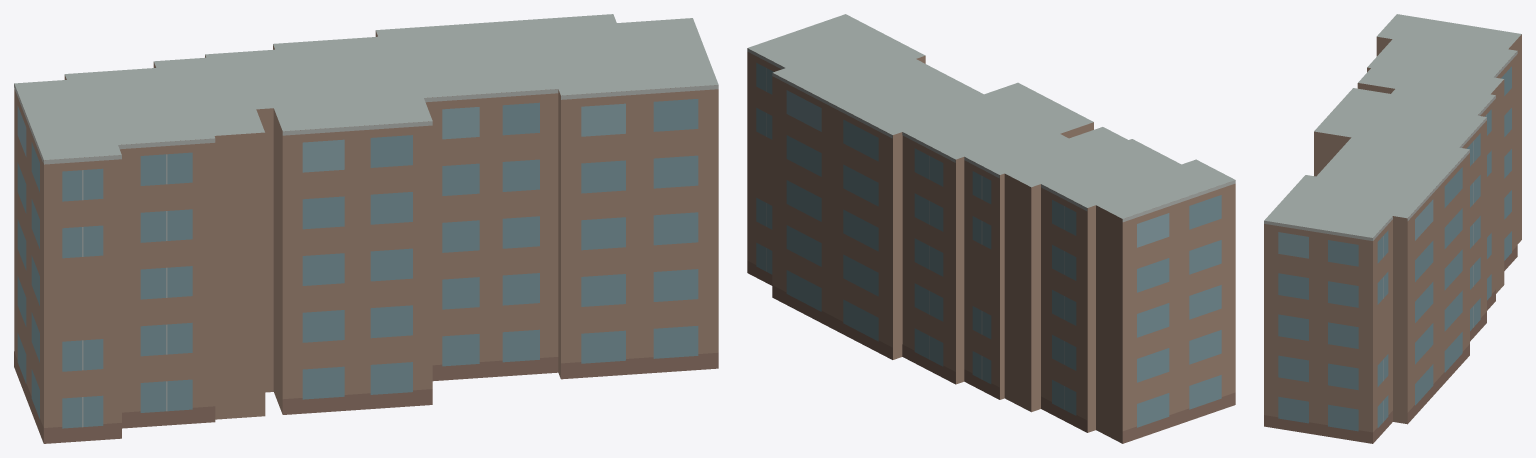
Rendered from survey-upis-32955782.glb.
3 views of the same model, side by side, from view 1: azimuth 30°, elevation 25°; view 2: azimuth 150°, elevation 25°; view 3: azimuth 270°, elevation 25° (orthographic). The views are drawn at different scales.
Parts seen in each view (by area): view 1: survey-upis-32955782.tmp; view 2: survey-upis-32955782.tmp; view 3: survey-upis-32955782.tmp.
Boxes of the visible parts, box(x1,y1,x2,y2) form: survey-upis-32955782.tmp: box(14, 14, 718, 443); survey-upis-32955782.tmp: box(747, 14, 1235, 443); survey-upis-32955782.tmp: box(1264, 14, 1521, 443).
Bounding box in the file's own units: 36.99 × 15.85 × 17.99.
